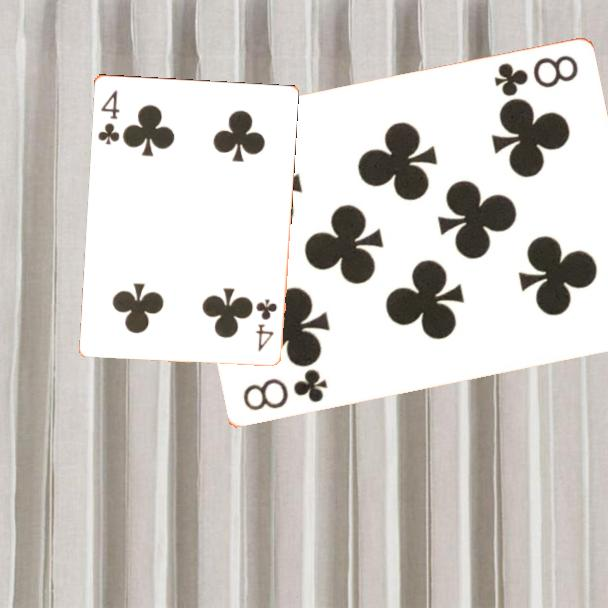c04: (94, 86, 122, 147), (252, 295, 280, 354)
c08: (239, 366, 330, 414), (490, 52, 581, 100)
